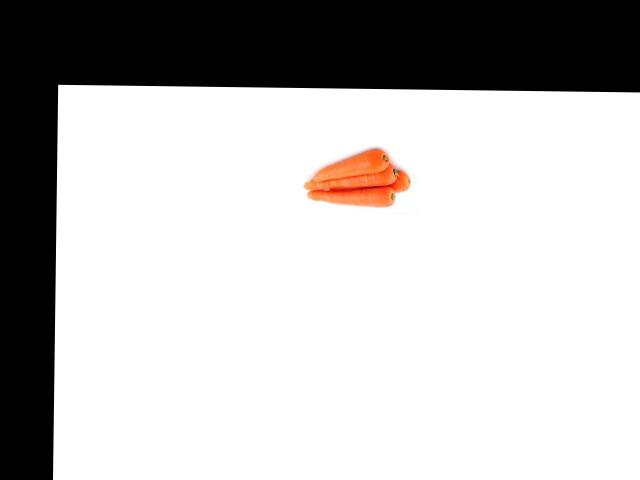carrot: (309, 148, 392, 174)
